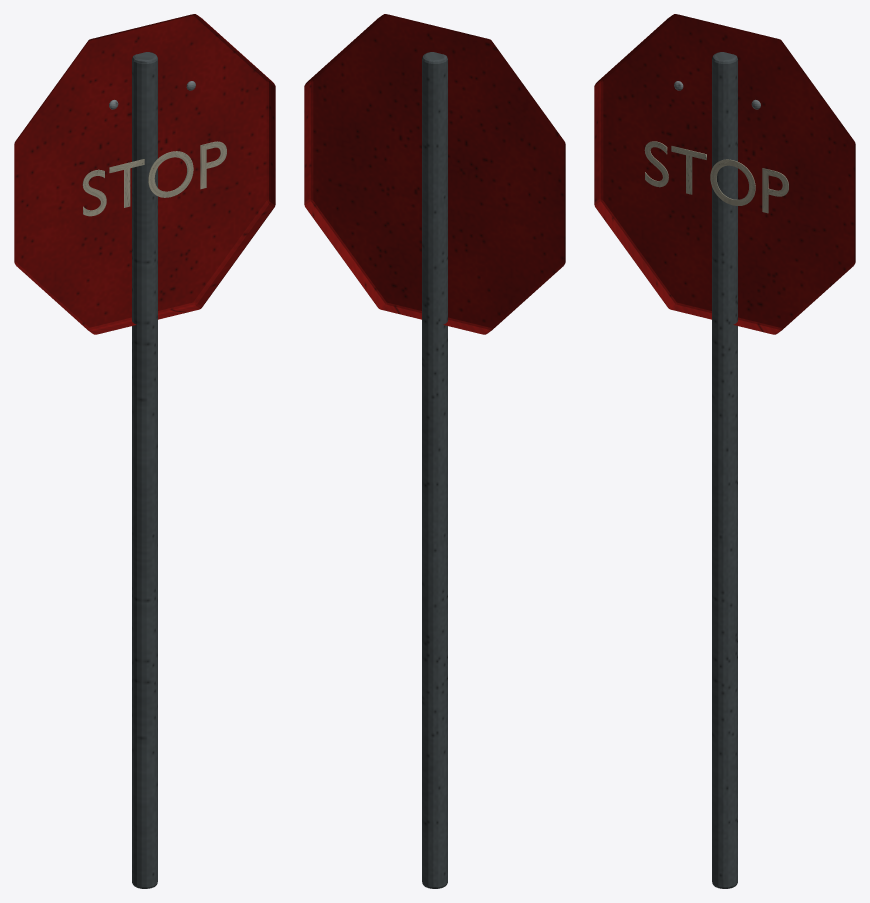
The model's file is PROP-FA0FFFDCB22C_lod0.glb.
3 renders of one model, left to right at view 1: azimuth 30°, elevation 25°; view 2: azimuth 150°, elevation 25°; view 3: azimuth 330°, elevation 25°, orthographic.
Visible parts, largest first — view 1: shaped_sign_plate.007, sign_post.029, sign_letters_STOP; view 2: shaped_sign_plate.007, sign_post.029; view 3: shaped_sign_plate.007, sign_post.029, sign_letters_STOP.
Part boxes in pixels (<box>): shaped_sign_plate.007: <box>14,14,275,334</box>; sign_post.029: <box>132,52,157,888</box>; sign_letters_STOP: <box>82,141,226,216</box>; shaped_sign_plate.007: <box>304,14,565,334</box>; sign_post.029: <box>422,52,447,888</box>; shaped_sign_plate.007: <box>594,14,855,334</box>; sign_post.029: <box>712,52,737,888</box>; sign_letters_STOP: <box>644,141,788,213</box>.
Size of the model in its own units: 0.7927 by 2.53 by 0.084.
Materials: 4 (4 with a texture image).
